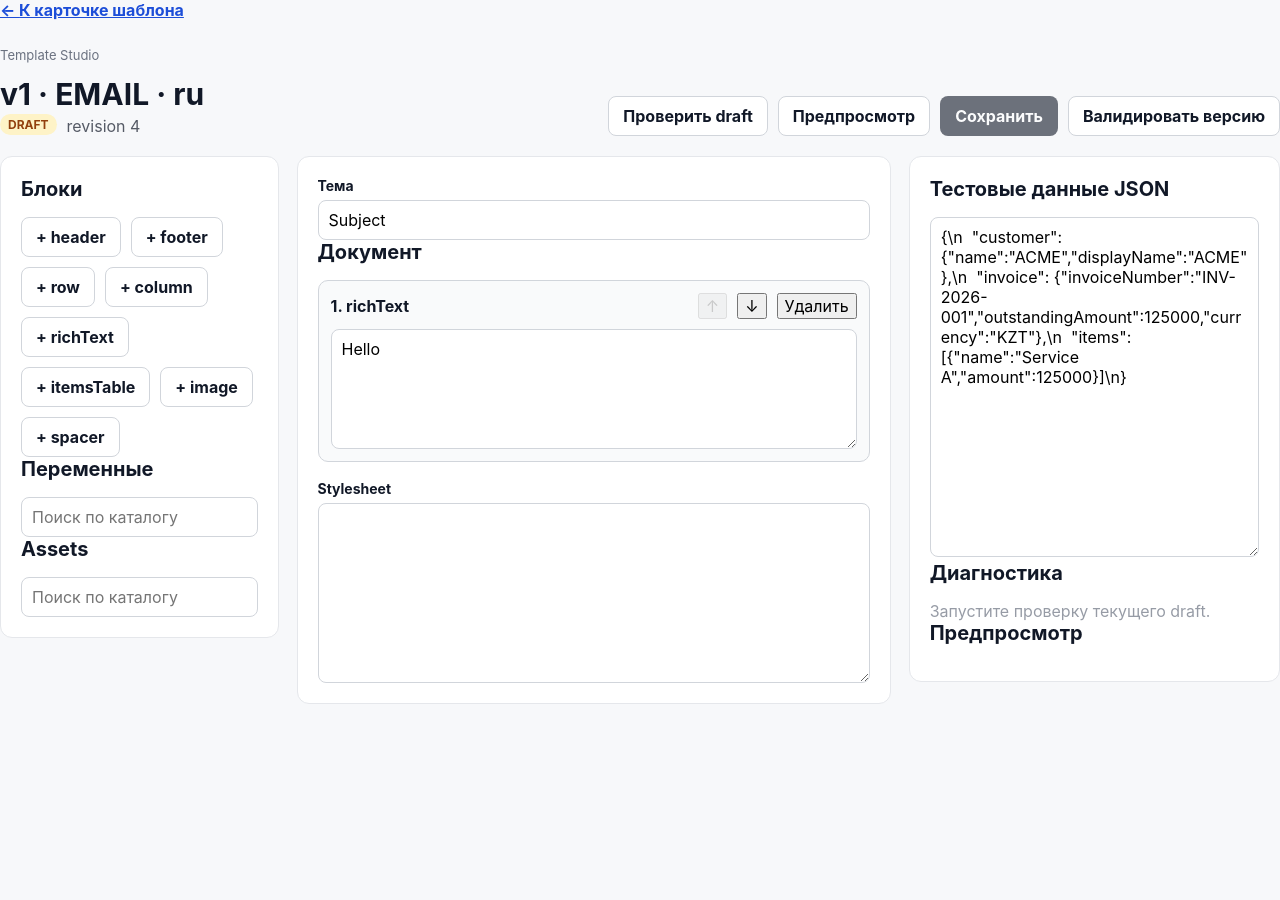
Test case: TemplateVersionEditorPage › blocks internal navigation while the draft is dirty
Replace the text in the text box showing "Hello" below "1. richText" with "Dirty draft" at x=594, y=389, box [330, 329, 857, 449]
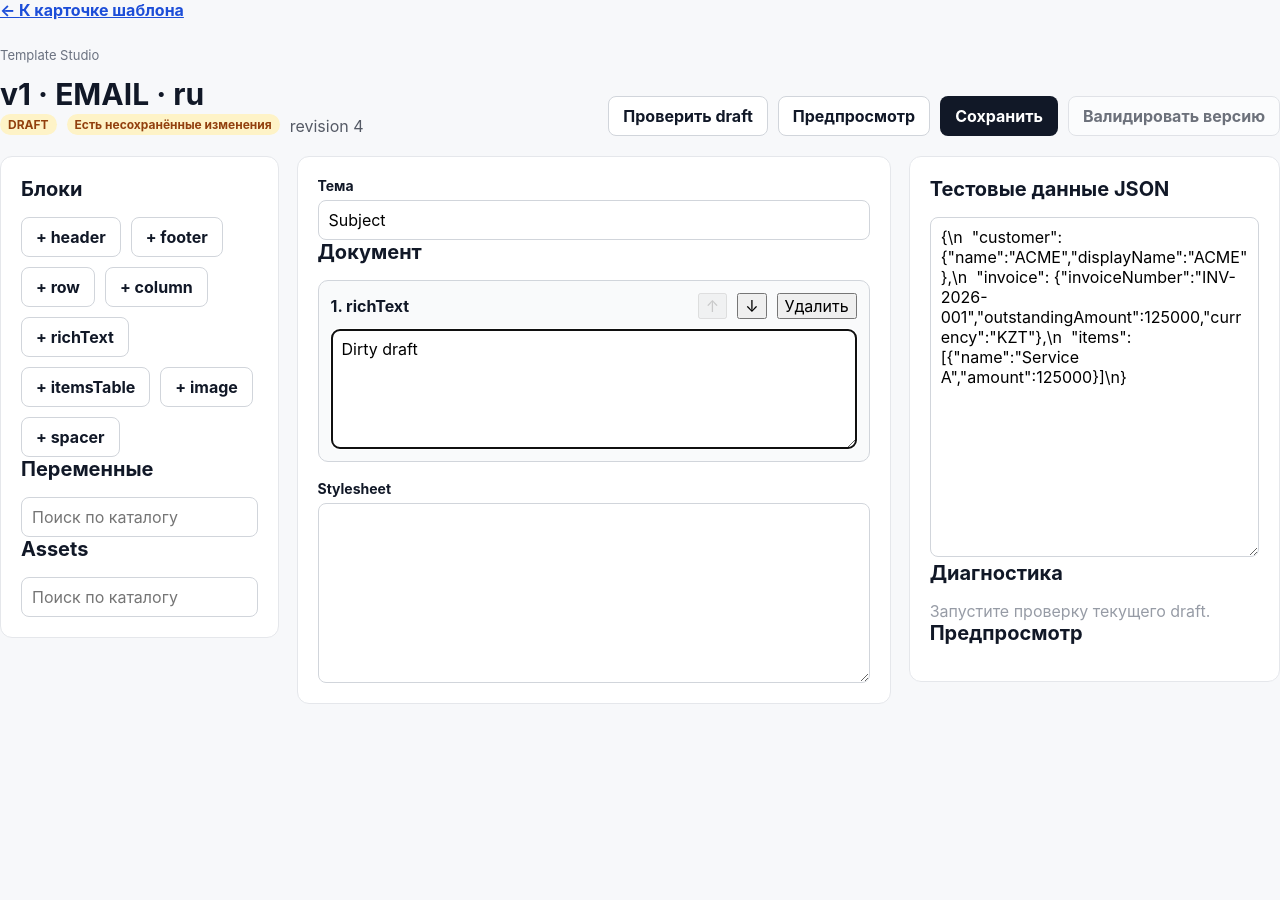
Click the link "← К карточке шаблона" at x=92, y=10, box [0, 0, 184, 20]
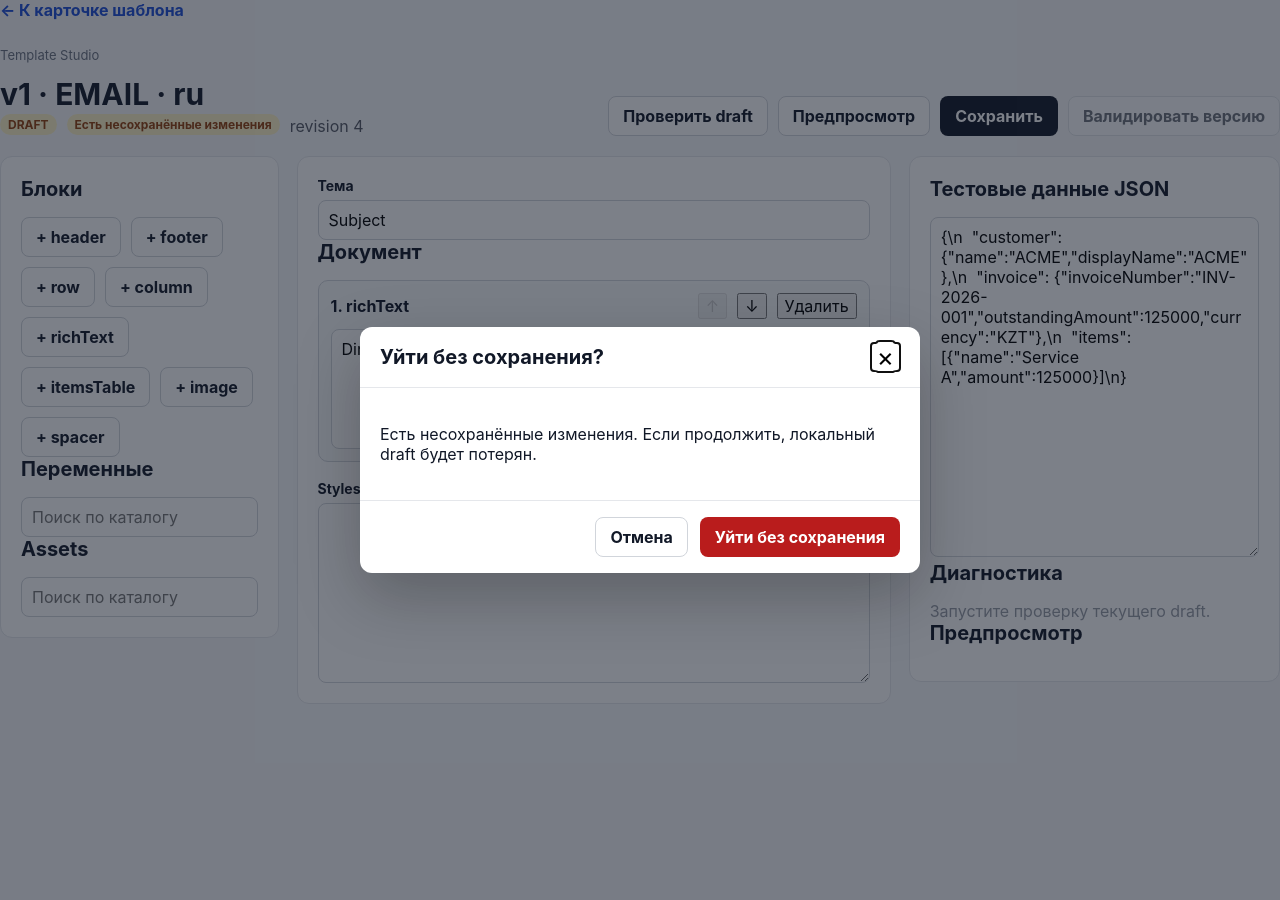
Now the heading "Уйти без сохранения?" is shown, box [380, 345, 604, 369]
